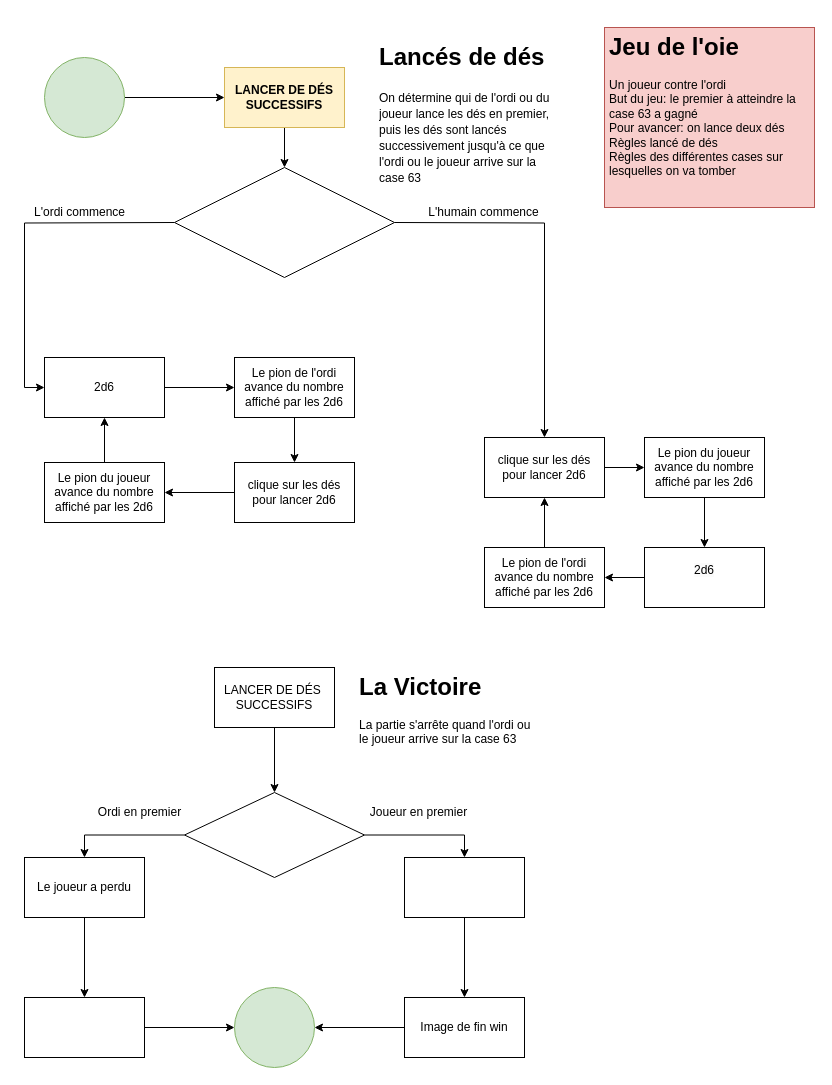
The diagram is 832 pixels wide and 1085 high, and some of its shapes have lost their labels. The centre of each missing label's shape, as x and y in pixels:
1d6: le plus gros score commence: the point at 284,222
Arrivée à la case 63: the point at 274,835
Début: the point at 84,97
Fin: the point at 274,1027
Image de fin loose: the point at 84,1027
Le joueur a gagné: the point at 464,887
